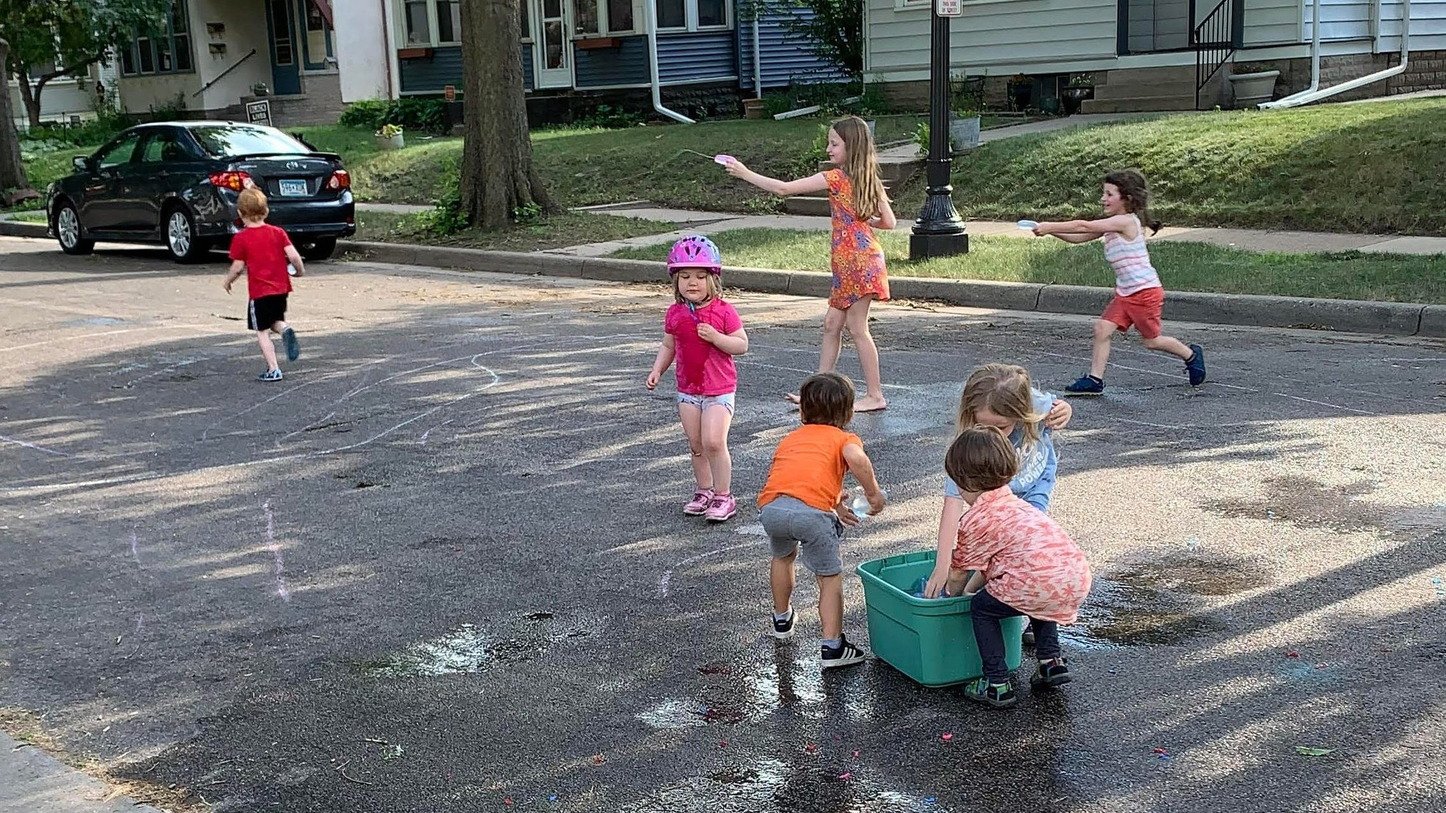Car: (33, 110, 373, 284)
Person: (1028, 160, 1216, 409), (781, 122, 904, 414), (748, 385, 862, 682), (637, 222, 744, 525), (219, 178, 316, 385)
